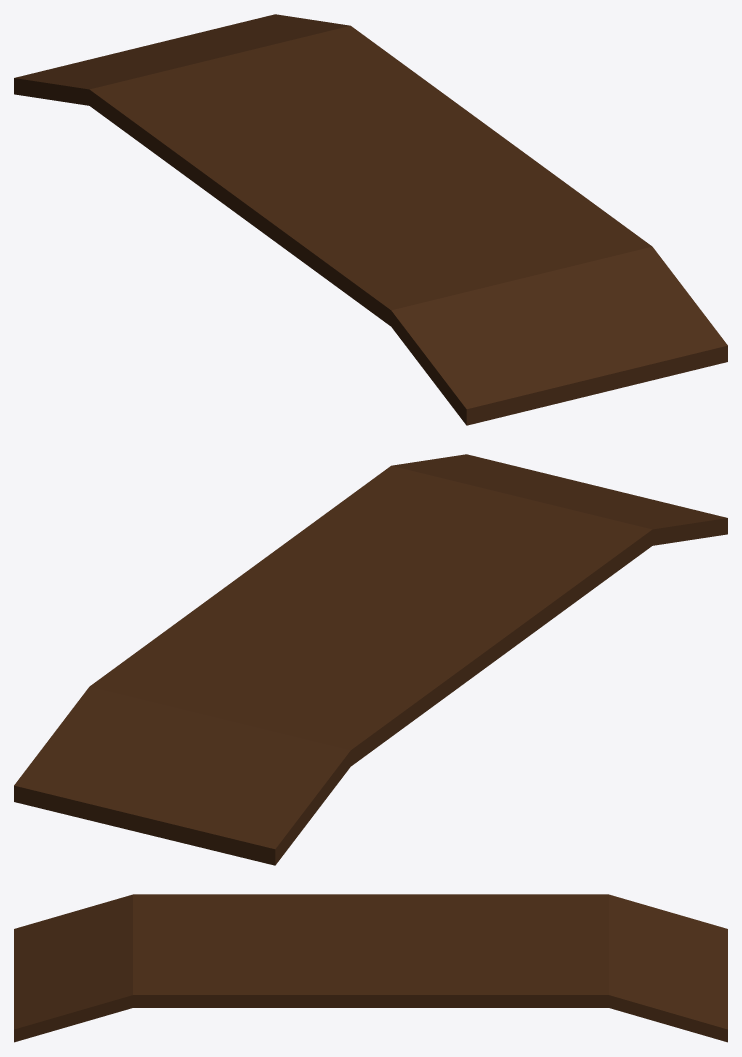
The model's file is Bridge.fbx.
The picture shows the model from 3 angles, top to bottom: view 1: azimuth 30°, elevation 25°; view 2: azimuth 150°, elevation 25°; view 3: azimuth 270°, elevation 25°; orthographic projection. The views are drawn at different scales.
Parts seen in each view (by area): view 1: Cube; view 2: Cube; view 3: Cube.
Part boxes in pixels (x1,y1,x2,y2): Cube: (14, 14, 727, 425); Cube: (14, 454, 727, 865); Cube: (14, 894, 727, 1042).
Bounding box in the file's own units: 250 × 55 × 750.
Materials: 1 (1 with a texture image).
